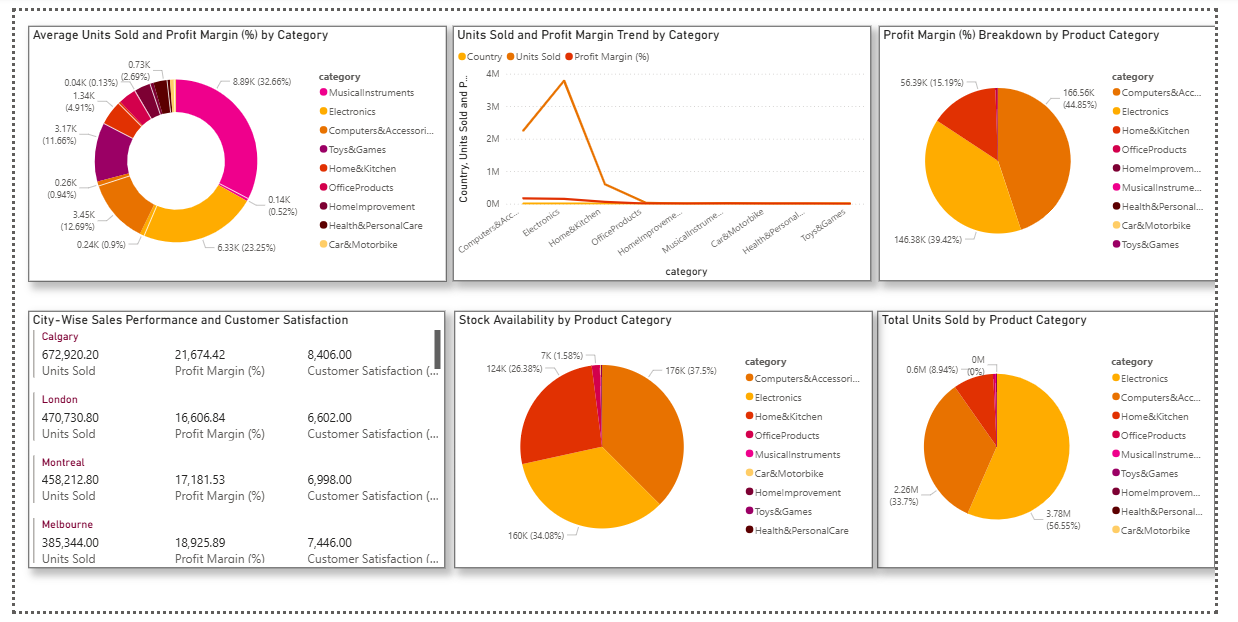

This screenshot's page, from the dashboard's own definition file:
{"tool":"powerbi","page":{"name":"Page 3","canvas":[1600,800],"ordinal":2},"visuals":[{"type":"donutChart","title":"Average Units Sold and Profit Margin (%) by Category","fields":{"Category":["Merge1.category"],"Y":["Avg(Merge1.Sheet1.Units Sold)","Avg(Merge1.Sheet1.Profit Margin (%))"]},"box":[17,19.1,557.4,340.4],"z":0},{"type":"lineChart","title":"Units Sold and Profit Margin Trend by Category","fields":{"Y":["CountNonNull(Merge1.Sheet1.Country)","Sum(Merge1.Sheet1.Units Sold)","Sum(Merge1.Sheet1.Profit Margin (%))"],"Category":["Merge1.category"]},"box":[584,19,557,340],"z":1000},{"type":"multiRowCard","title":"City-Wise Sales Performance and Customer Satisfaction","fields":{"Values":["Sum(Merge1.Sheet1.Units Sold)","Merge1.Sheet1.Location in Country","Sum(Merge1.Sheet1.Profit Margin (%))","Sum(Merge1.Sheet1.Customer Satisfaction (%))"]},"box":[17.5,400,555,342.5],"z":2000},{"type":"pieChart","title":"Profit Margin (%) Breakdown by Product Category","fields":{"Y":["Sum(Merge1.Sheet1.Profit Margin (%))"],"Category":["Merge1.category"]},"box":[1151,19,449,340],"z":3000},{"type":"pieChart","title":"Total Units Sold by Product Category","fields":{"Category":["Merge1.category"],"Y":["Sum(Merge1.Sheet1.Units Sold)"]},"box":[1150,400,450,342.5],"z":4000},{"type":"pieChart","title":"Stock Availability by Product Category","fields":{"Category":["Merge1.category"],"Y":["Sum(Merge1.Sheet1.Stock Available)"]},"box":[585,400,557.5,342.5],"z":5000}]}

Visuals, with their boxes in screenshot pixels (x1, y1, x2, y2), scaled from the page's 1600x800 canvas onto the 1238x622 screenshot:
"Average Units Sold and Profit Margin (%) by Category" donutChart: Rect(13, 15, 444, 280)
"Units Sold and Profit Margin Trend by Category" lineChart: Rect(452, 15, 883, 279)
"City-Wise Sales Performance and Customer Satisfaction" multiRowCard: Rect(14, 311, 443, 577)
"Profit Margin (%) Breakdown by Product Category" pieChart: Rect(891, 15, 1237, 279)
"Total Units Sold by Product Category" pieChart: Rect(890, 311, 1237, 577)
"Stock Availability by Product Category" pieChart: Rect(453, 311, 884, 577)
